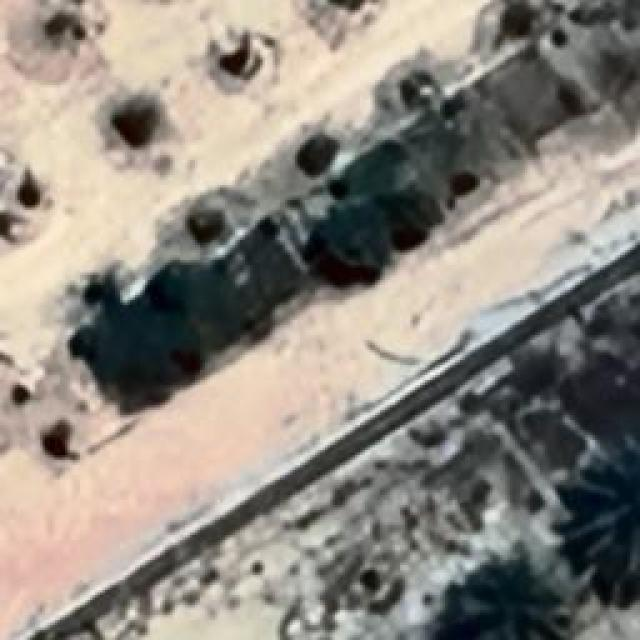PalmTree: (562, 442, 640, 595), (434, 565, 576, 640)
